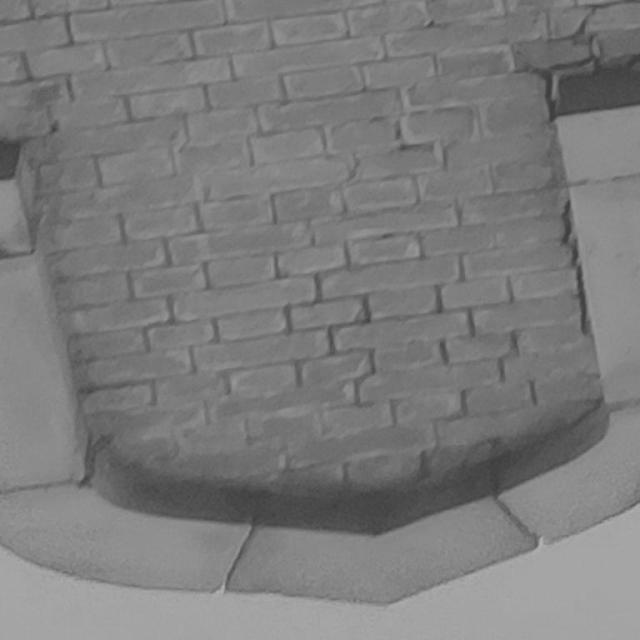crack: (539, 1, 640, 122), (559, 197, 588, 336)
